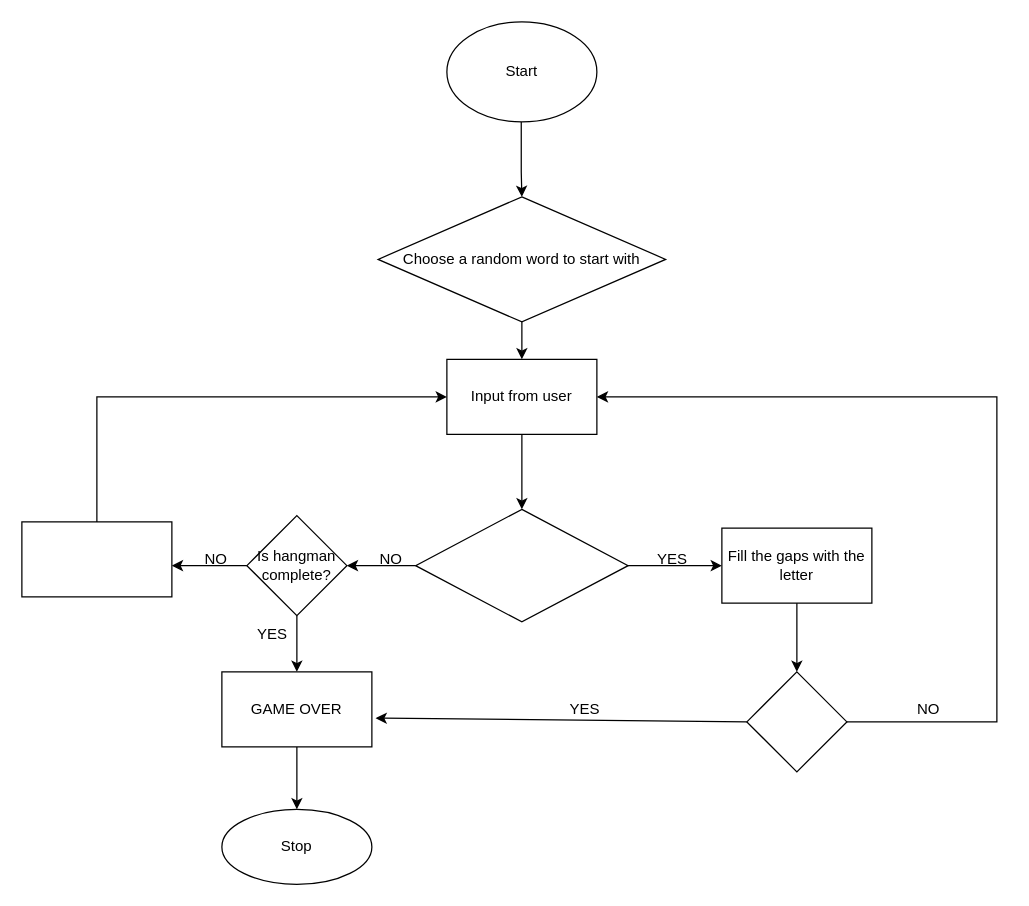
The diagram is 1029 pixels wide and 906 high, and some of its shapes have lost their labels. Here are the shapes that lost their labels. From the top down, the box of each, then its label:
(21, 521, 172, 597): Hangman drawing increases
(414, 508, 628, 622): If in word
(746, 671, 847, 772): Is word complete
